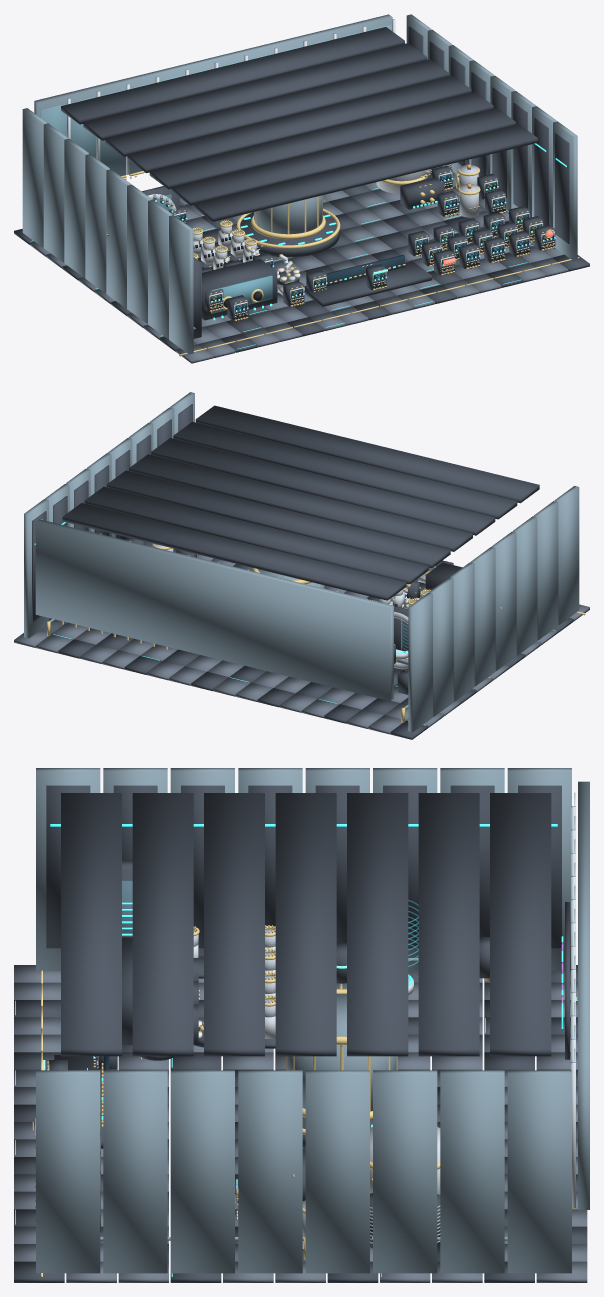
Rendered from Level93_Complete_ArtKit_Showcase.glb.
3 renders of one model, top to bottom at view 1: azimuth 30°, elevation 25°; view 2: azimuth 150°, elevation 25°; view 3: azimuth 270°, elevation 25°, orthographic. The views are drawn at different scales.
Visible parts, largest first — view 1: L92_CeilingLabLightingArray_Part_0000, L92_TitaniumWallModuleLeft_Part_0000, L92_TitaniumWallModuleRight_Part_0001, L92_TitaniumWallModuleRight_Part_0000, L92_PanoramicObservationWindo_Part_0000, L92_Aurora1ScienceLaboratoryD_Part_0011, L92_Aurora1ScienceLaboratoryD_Part_0002, L92_InertGloveboxMain_Part_0000, L92_Aurora1ScienceLaboratoryD_Part_0012, L92_Aurora1ScienceLaboratoryD_Part_0009, L92_Aurora1ScienceLaboratoryD_Part_0001, L92_PanoramicObservationWindo_Part_0001 (+18 smaller); view 2: L92_CeilingLabLightingArray_Part_0000, L92_PanoramicObservationWindo_Part_0000, L92_TitaniumWallModuleLeft_Part_0000, L92_TitaniumWallModuleRight_Part_0000, L92_TitaniumWallModuleRight_Part_0001, L92_Aurora1ScienceLaboratoryD_Part_0007, L92_Aurora1ScienceLaboratoryD_Part_0000, L92_Aurora1ScienceLaboratoryD_Part_0012, L92_Aurora1ScienceLaboratoryD_Part_0002, L92_Aurora1ScienceLaboratoryD_Part_0008, L92_Aurora1ScienceLaboratoryD_Part_0009, L92_Aurora1ScienceLaboratoryD_Part_0011 (+4 smaller); view 3: L92_CeilingLabLightingArray_Part_0000, L92_TitaniumWallModuleRight_Part_0000, L92_TitaniumWallModuleLeft_Part_0001, L92_TitaniumWallModuleLeft_Part_0000, L92_PanoramicObservationWindo_Part_0000, L92_Aurora1ScienceLaboratoryD_Part_0013, L92_Aurora1ScienceLaboratoryD_Part_0008, L92_Aurora1ScienceLaboratoryD_Part_0009, L92_Aurora1ScienceLaboratoryD_Part_0000, L92_Aurora1ScienceLaboratoryD_Part_0007, L92_Aurora1ScienceLaboratoryD_Part_0003, L92_Aurora1ScienceLaboratoryD_Part_0001 (+10 smaller).
Boxes of the visible parts, bbox=[...] form: L92_CeilingLabLightingArray_Part_0000: bbox=[61, 27, 537, 221]; L92_TitaniumWallModuleLeft_Part_0000: bbox=[22, 108, 193, 354]; L92_TitaniumWallModuleRight_Part_0001: bbox=[408, 26, 569, 243]; L92_TitaniumWallModuleRight_Part_0000: bbox=[406, 14, 577, 260]; L92_PanoramicObservationWindo_Part_0000: bbox=[34, 14, 392, 175]; L92_Aurora1ScienceLaboratoryD_Part_0011: bbox=[323, 190, 479, 309]; L92_Aurora1ScienceLaboratoryD_Part_0002: bbox=[328, 175, 529, 303]; L92_InertGloveboxMain_Part_0000: bbox=[201, 259, 277, 320]; L92_Aurora1ScienceLaboratoryD_Part_0012: bbox=[364, 176, 545, 293]; L92_Aurora1ScienceLaboratoryD_Part_0009: bbox=[179, 198, 368, 330]; L92_Aurora1ScienceLaboratoryD_Part_0001: bbox=[179, 201, 396, 336]; L92_PanoramicObservationWindo_Part_0001: bbox=[40, 24, 391, 174]; L92_CeilingLabLightingArray_Part_0000: bbox=[62, 405, 539, 600]; L92_PanoramicObservationWindo_Part_0000: bbox=[35, 519, 393, 700]; L92_TitaniumWallModuleLeft_Part_0000: bbox=[408, 486, 579, 732]; L92_TitaniumWallModuleRight_Part_0000: bbox=[24, 392, 194, 638]; L92_TitaniumWallModuleRight_Part_0001: bbox=[32, 404, 192, 621]; L92_Aurora1ScienceLaboratoryD_Part_0007: bbox=[346, 604, 589, 734]; L92_Aurora1ScienceLaboratoryD_Part_0000: bbox=[296, 618, 573, 739]; L92_Aurora1ScienceLaboratoryD_Part_0012: bbox=[36, 554, 235, 663]; L92_Aurora1ScienceLaboratoryD_Part_0002: bbox=[58, 564, 252, 674]; L92_Aurora1ScienceLaboratoryD_Part_0008: bbox=[280, 687, 377, 718]; L92_Aurora1ScienceLaboratoryD_Part_0009: bbox=[213, 597, 420, 701]; L92_Aurora1ScienceLaboratoryD_Part_0011: bbox=[102, 638, 183, 680]; L92_CeilingLabLightingArray_Part_0000: bbox=[61, 793, 551, 1056]; L92_TitaniumWallModuleRight_Part_0000: bbox=[36, 1070, 571, 1273]; L92_TitaniumWallModuleLeft_Part_0001: bbox=[46, 785, 561, 948]; L92_TitaniumWallModuleLeft_Part_0000: bbox=[36, 768, 571, 971]; L92_PanoramicObservationWindo_Part_0000: bbox=[578, 781, 589, 1209]; L92_Aurora1ScienceLaboratoryD_Part_0013: bbox=[14, 1244, 587, 1282]; L92_Aurora1ScienceLaboratoryD_Part_0008: bbox=[14, 1017, 577, 1069]; L92_Aurora1ScienceLaboratoryD_Part_0009: bbox=[14, 1052, 577, 1121]; L92_Aurora1ScienceLaboratoryD_Part_0000: bbox=[14, 965, 577, 1069]; L92_Aurora1ScienceLaboratoryD_Part_0007: bbox=[14, 965, 577, 1017]; L92_Aurora1ScienceLaboratoryD_Part_0003: bbox=[14, 1244, 534, 1282]; L92_Aurora1ScienceLaboratoryD_Part_0001: bbox=[14, 1052, 577, 1156].
Size of the model in its own units: 27.21 by 8.21 by 20.94.
